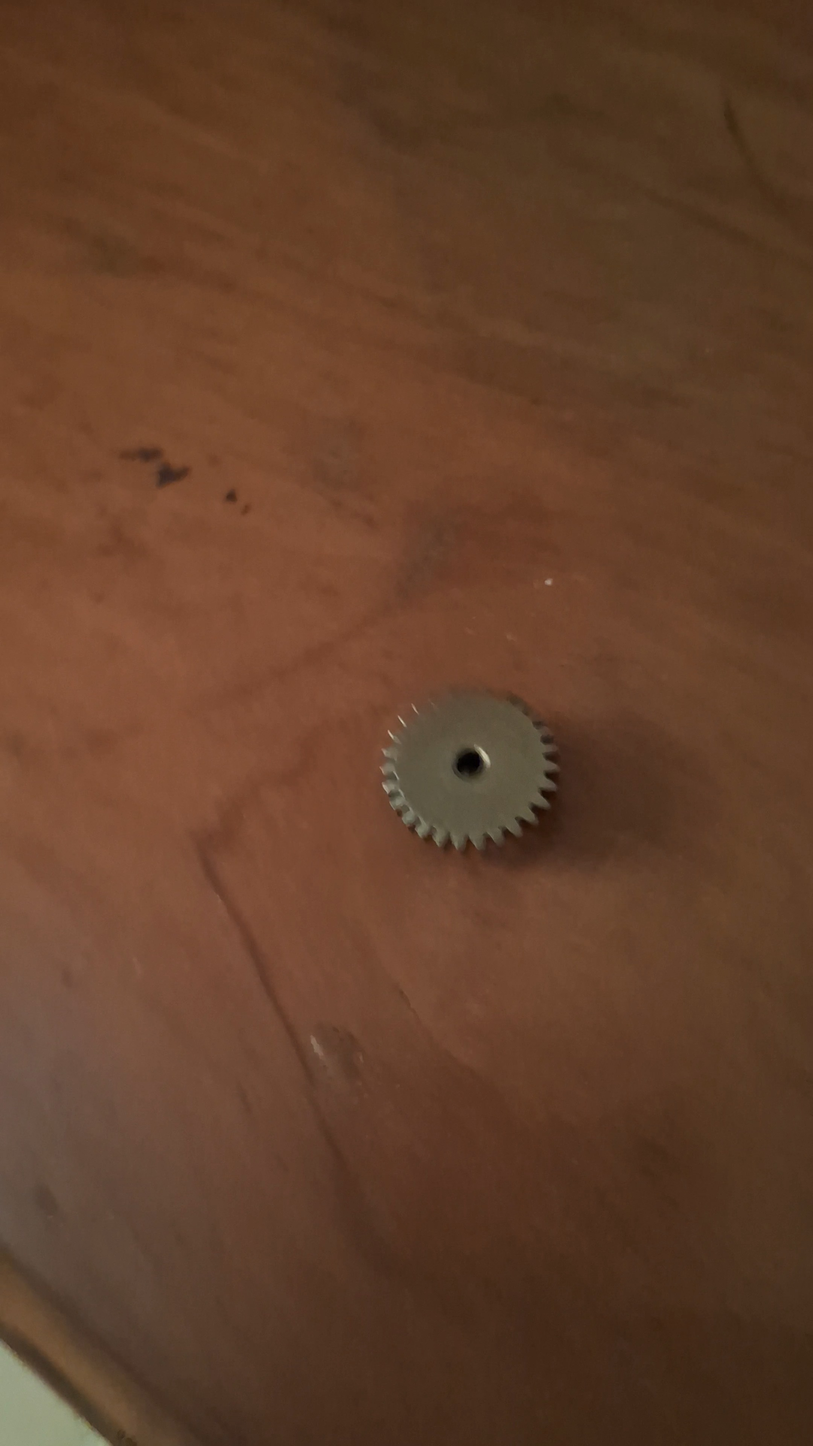spur gear: (382, 692, 557, 850)
